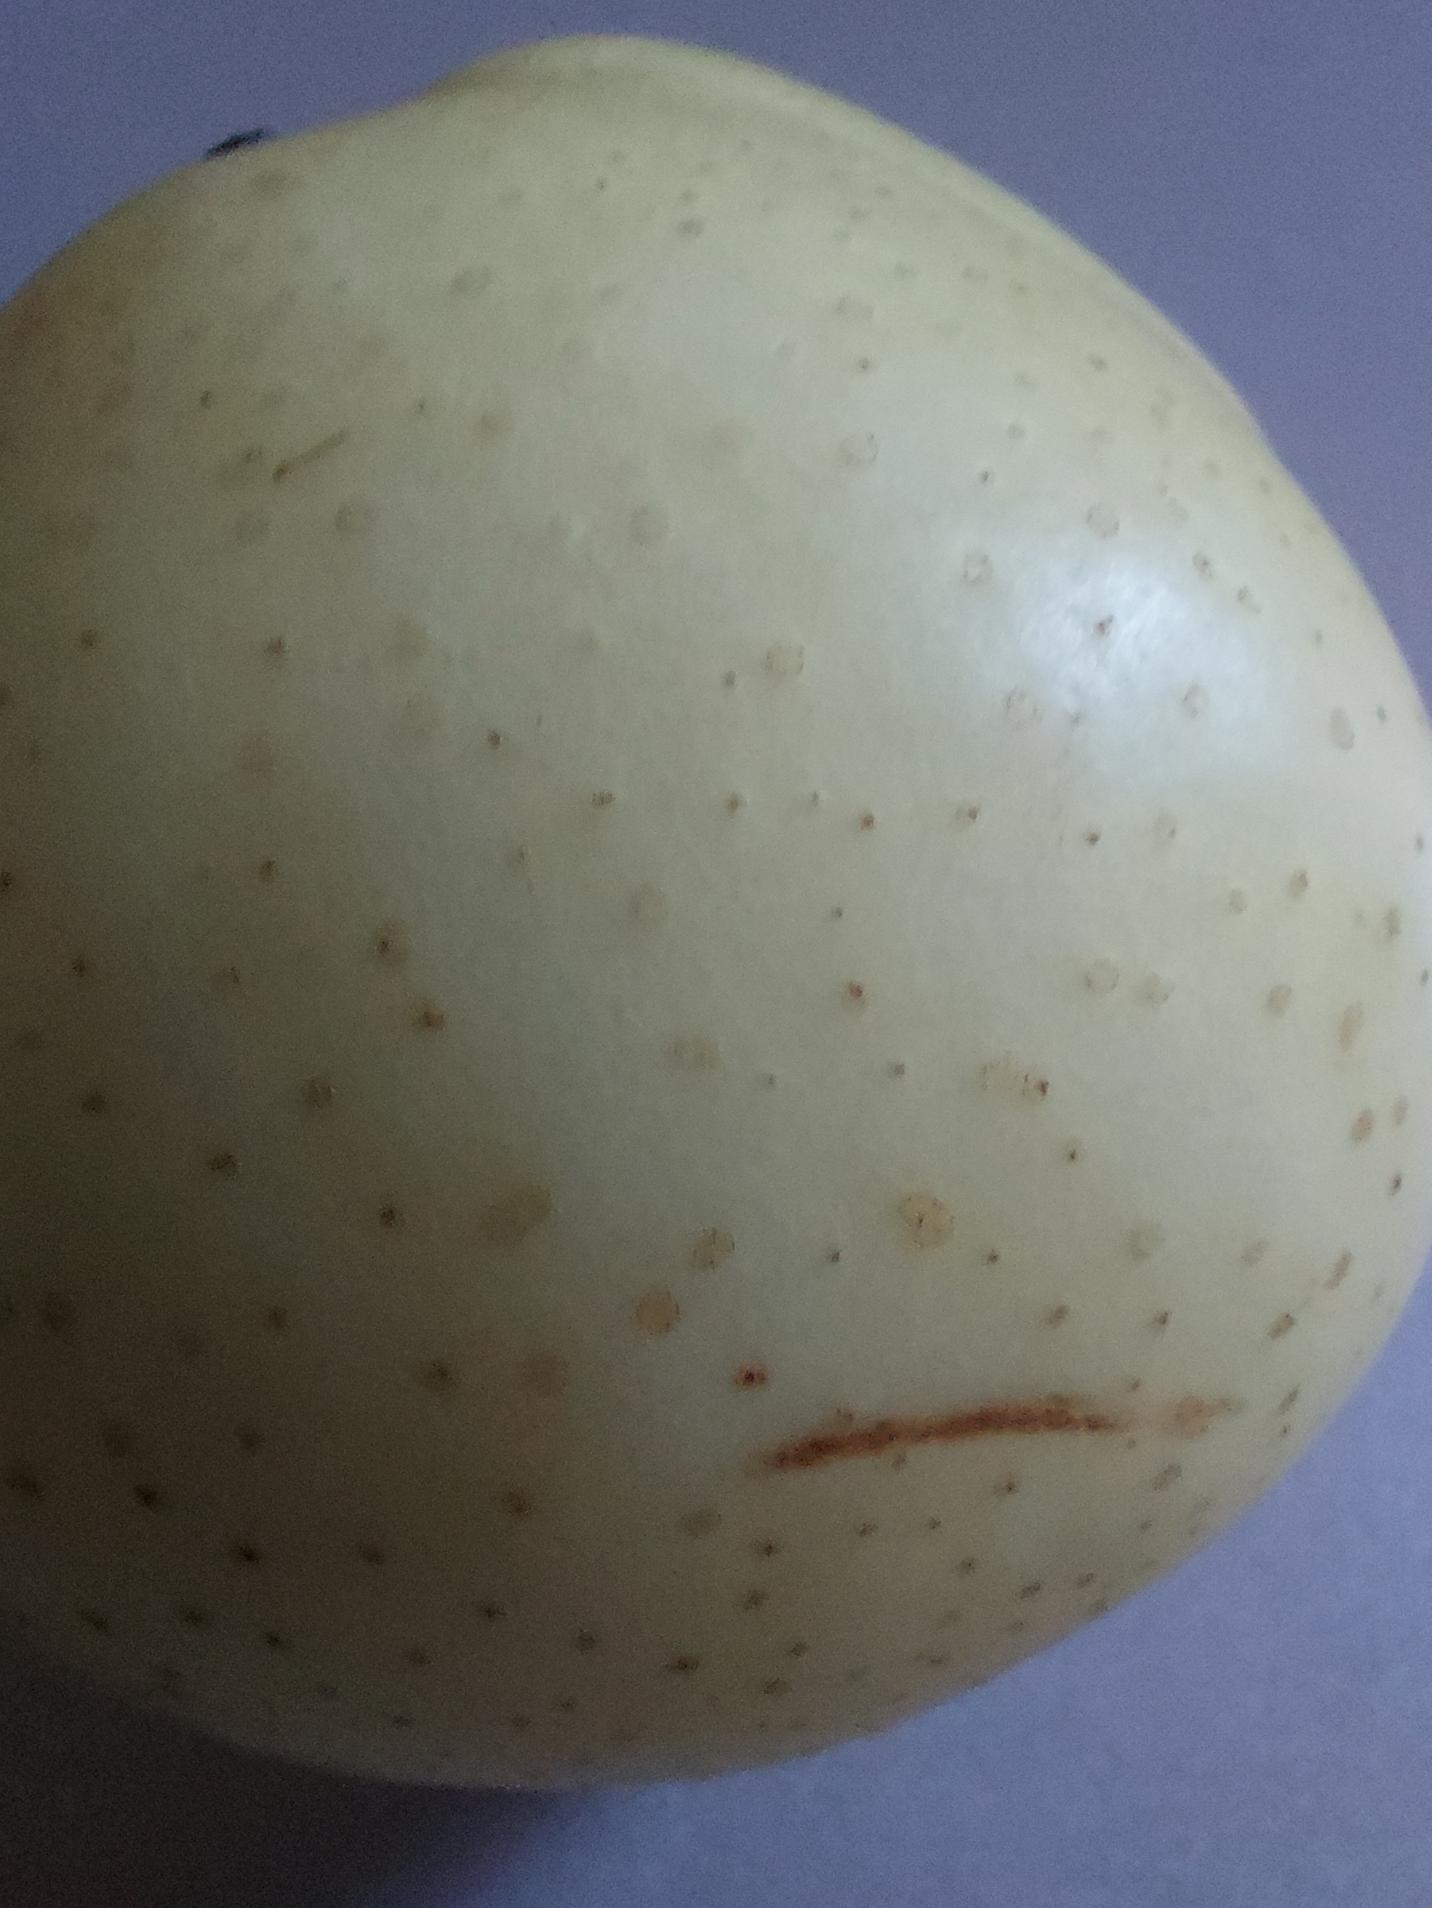Good Pear: (0, 26, 1432, 1801)
